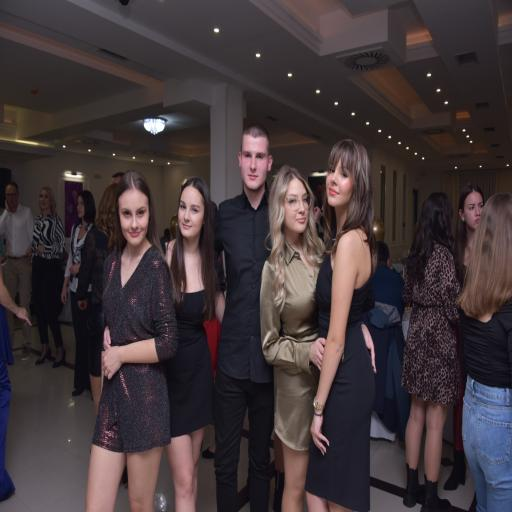marija: (179, 187, 207, 239)
